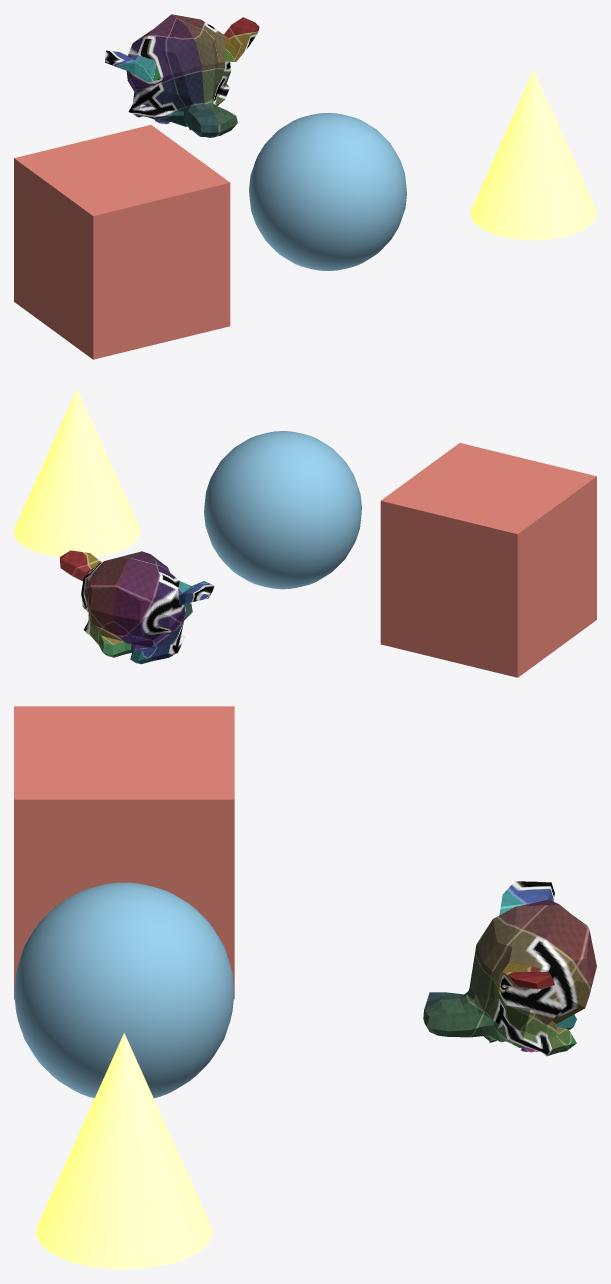
Rendered from blender_scene.glb.
3 renders of one model, top to bottom at view 1: azimuth 30°, elevation 25°; view 2: azimuth 150°, elevation 25°; view 3: azimuth 270°, elevation 25°, orthographic. The views are drawn at different scales.
Visible parts, largest first — view 1: Cube, Sphere, Cone, Suzanne; view 2: Cube, Sphere, Cone, Suzanne; view 3: Cube, Sphere, Cone, Suzanne.
Boxes of the visible parts, x1=… form: Cube: x1=14, y1=125, x2=230, y2=359; Sphere: x1=249, y1=113, x2=406, y2=270; Cone: x1=470, y1=70, x2=596, y2=240; Suzanne: x1=105, y1=14, x2=259, y2=137; Cube: x1=380, y1=443, x2=596, y2=677; Sphere: x1=204, y1=431, x2=361, y2=589; Cone: x1=14, y1=388, x2=140, y2=557; Suzanne: x1=60, y1=550, x2=214, y2=664; Cube: x1=14, y1=706, x2=234, y2=999; Sphere: x1=14, y1=882, x2=234, y2=1098; Cone: x1=36, y1=1033, x2=212, y2=1269; Suzanne: x1=423, y1=881, x2=596, y2=1056.
Size of what is drawn, in the model's own units: 7.8 by 2 by 5.29.
4 materials, 1 textured.
